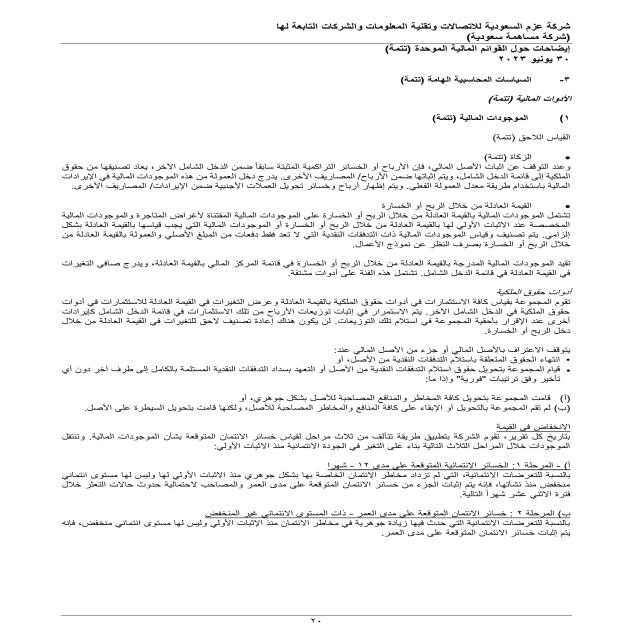notes: (374, 41, 576, 53)
text: (39, 66, 579, 556)
